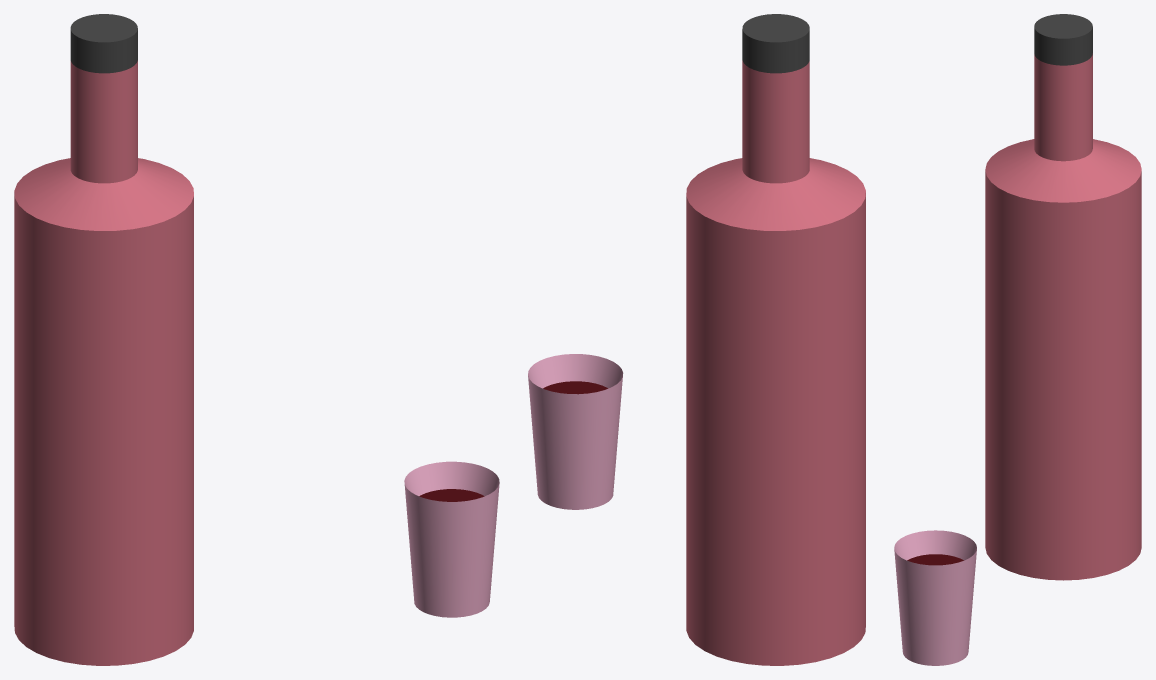
The model's file is drankjes.fbx.
3 views of the same model, side by side, from view 1: azimuth 30°, elevation 25°; view 2: azimuth 150°, elevation 25°; view 3: azimuth 270°, elevation 25° (orthographic). The views are drawn at different scales.
Visible parts, largest first — view 1: Cylinder, Circle; view 2: Cylinder, Circle, Circle.001; view 3: Cylinder, Circle, Circle.001.
Boxes of the visible parts, x1,y1,x2,y2 form: Cylinder: [14, 14, 193, 665]; Circle: [404, 461, 499, 617]; Cylinder: [686, 14, 865, 665]; Circle: [528, 354, 623, 509]; Circle.001: [543, 381, 607, 394]; Cylinder: [985, 14, 1141, 580]; Circle: [894, 530, 976, 665]; Circle.001: [907, 554, 963, 565].
Bounding box in the file's own units: 167 × 244 × 105.
